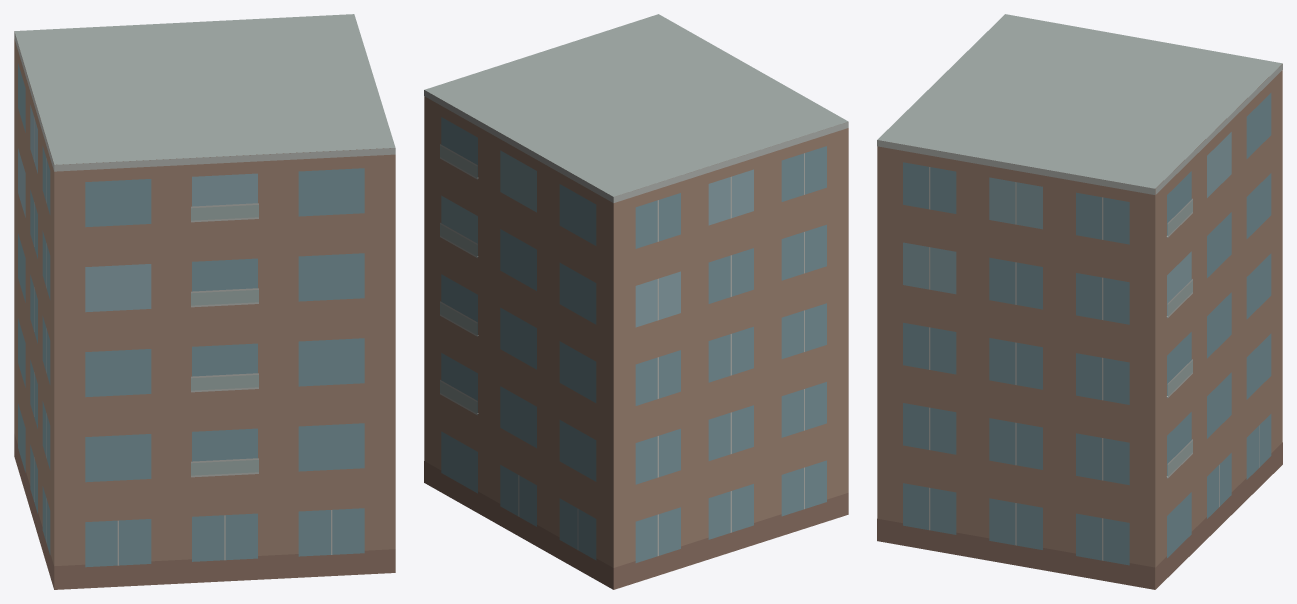
File: survey-upis-32903473.glb
3 views of the same model, side by side, from view 1: azimuth 30°, elevation 25°; view 2: azimuth 150°, elevation 25°; view 3: azimuth 270°, elevation 25° (orthographic). The views are drawn at different scales.
Visible parts, largest first — view 1: survey-upis-32903473.tmp; view 2: survey-upis-32903473.tmp; view 3: survey-upis-32903473.tmp.
Boxes of the visible parts, x1,y1,x2,y2 form: survey-upis-32903473.tmp: (14,14,395,589); survey-upis-32903473.tmp: (424,14,848,589); survey-upis-32903473.tmp: (877,14,1282,589).
Size of the model in its own units: 14.36 by 15.35 by 14.08.
